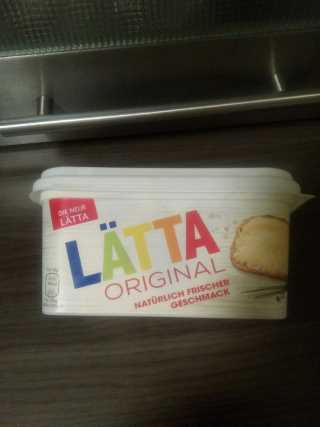laetta: (28, 164, 313, 320)
